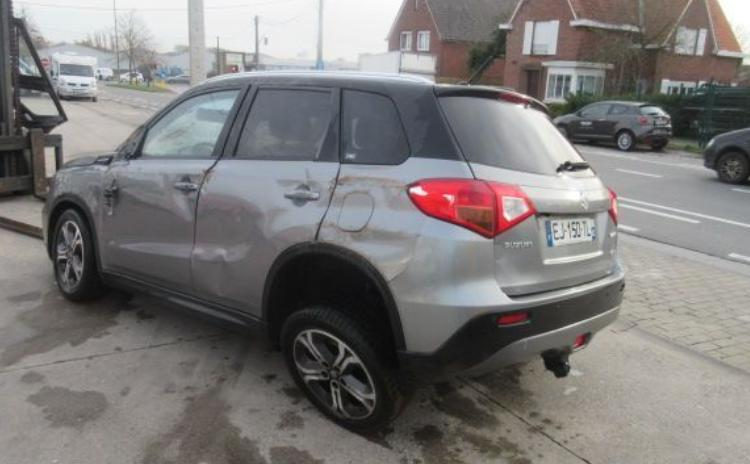Broken part: (277, 304, 399, 431), (102, 176, 121, 211)
Corrosion: (203, 164, 214, 177)
Dent: (315, 175, 428, 286), (90, 187, 190, 261), (188, 192, 262, 265), (273, 167, 339, 212), (261, 209, 316, 255), (165, 170, 212, 217), (100, 165, 166, 197), (192, 251, 232, 295)
Missing part: (116, 141, 141, 165)
